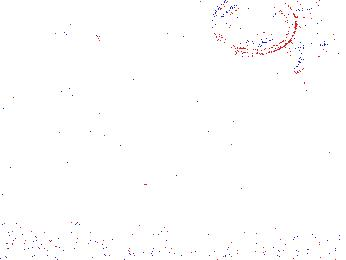moon jellyfish: (212, 1, 298, 56), (51, 28, 101, 94), (295, 43, 343, 95), (28, 1, 116, 25), (1, 38, 26, 105)
